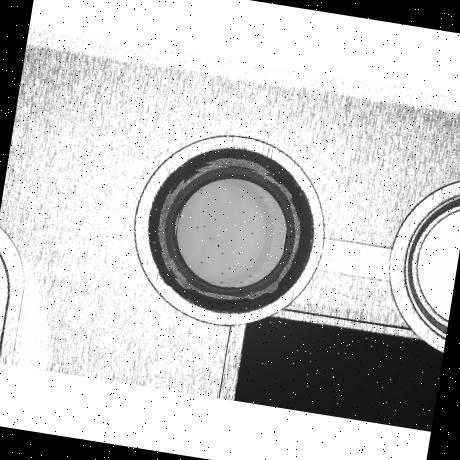Hole: (136, 135, 326, 327)
Hole2: (149, 148, 311, 310)
Hole3: (157, 157, 305, 304)
Hole4: (168, 168, 294, 293)
